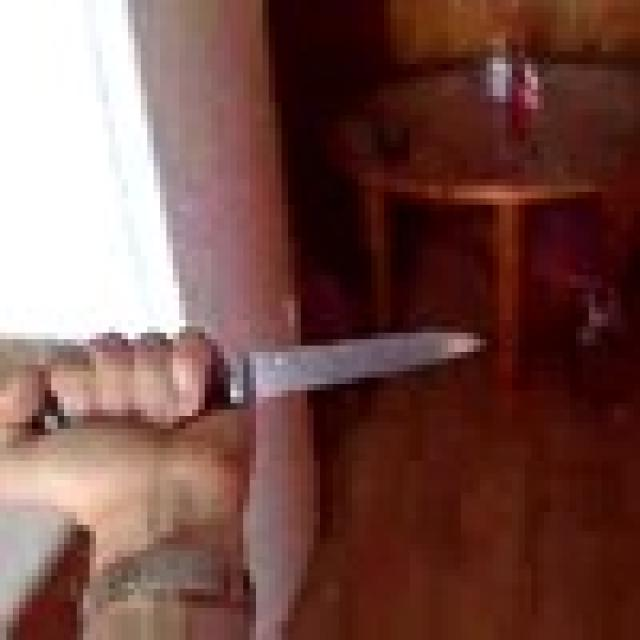Knife: (19, 320, 493, 403)
